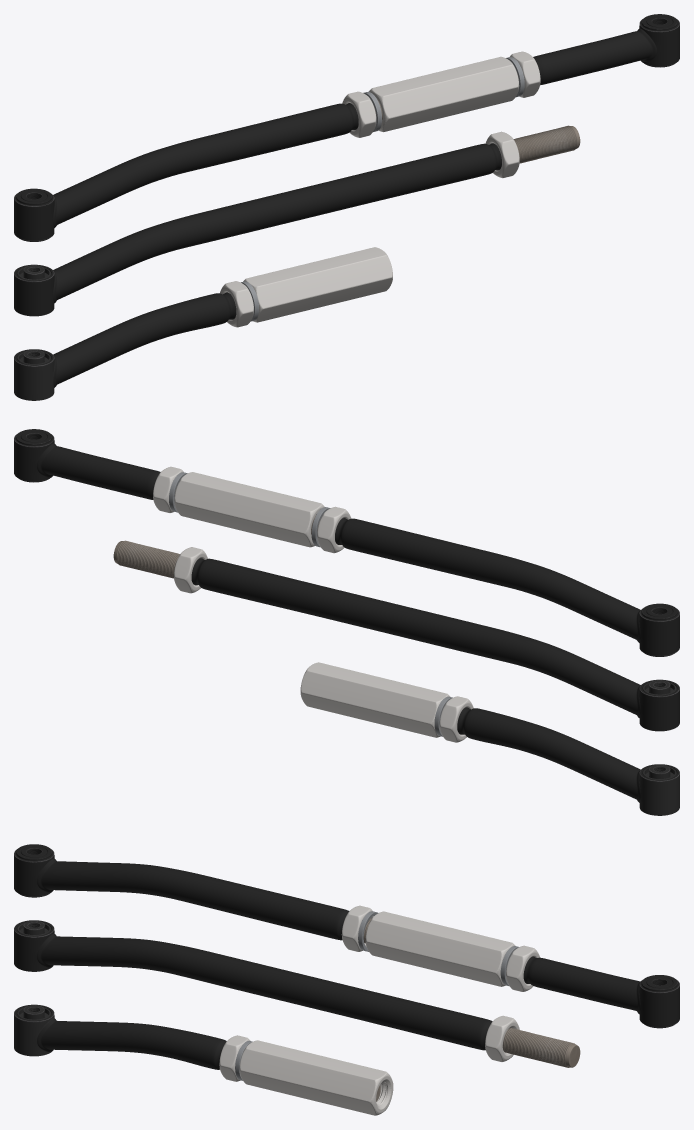
3 views of the same model, one above another, from view 1: azimuth 30°, elevation 25°; view 2: azimuth 150°, elevation 25°; view 3: azimuth 330°, elevation 25° (orthographic).
Parts seen in each view (by area): view 1: Rods2, Rods1, Rods3, LongNut2, LongNut1, Rods4, ThreadNut2, Bolts2, Bolts3, Bolts4, Bolts1; view 2: Rods2, Rods1, Rods3, LongNut2, LongNut1, Rods4, ThreadNut2, Bolts4, Bolts2, Bolts3, Bolts1; view 3: Rods2, Rods1, Rods3, LongNut1, LongNut2, Rods4, ThreadNut2, Bolts3, Bolts1, Bolts2, Bolts4.
Part boxes in pixels (x1=…): Rods2: x1=14, y1=143, x2=501, y2=316; Rods1: x1=14, y1=103, x2=358, y2=241; Rods3: x1=14, y1=292, x2=236, y2=400; LongNut2: x1=369, y1=56, x2=519, y2=132; LongNut1: x1=243, y1=247, x2=392, y2=322; Rods4: x1=533, y1=14, x2=679, y2=85; ThreadNut2: x1=513, y1=125, x2=580, y2=163; Bolts2: x1=342, y1=91, x2=376, y2=137; Bolts3: x1=485, y1=131, x2=519, y2=178; Bolts4: x1=220, y1=281, x2=253, y2=327; Bolts1: x1=510, y1=51, x2=540, y2=97; Rods2: x1=191, y1=558, x2=679, y2=731; Rods1: x1=335, y1=518, x2=679, y2=656; Rods3: x1=457, y1=707, x2=679, y2=815; LongNut2: x1=174, y1=472, x2=324, y2=547; LongNut1: x1=300, y1=662, x2=450, y2=737; Rods4: x1=14, y1=429, x2=160, y2=499; ThreadNut2: x1=113, y1=540, x2=179, y2=578; Bolts4: x1=439, y1=696, x2=473, y2=742; Bolts2: x1=317, y1=506, x2=351, y2=553; Bolts3: x1=174, y1=547, x2=207, y2=593; Bolts1: x1=153, y1=466, x2=183, y2=512; Rods2: x1=14, y1=920, x2=492, y2=1050; Rods1: x1=14, y1=844, x2=348, y2=940; Rods3: x1=14, y1=1004, x2=226, y2=1069; LongNut1: x1=239, y1=1040, x2=393, y2=1115; LongNut2: x1=365, y1=911, x2=515, y2=986; Rods4: x1=523, y1=956, x2=679, y2=1028; ThreadNut2: x1=502, y1=1028, x2=580, y2=1067; Bolts3: x1=485, y1=1015, x2=519, y2=1061; Bolts1: x1=506, y1=945, x2=539, y2=991; Bolts2: x1=341, y1=905, x2=373, y2=951; Bolts4: x1=219, y1=1035, x2=250, y2=1081.
Bounding box in the file's own units: 20.16 × 6.45 × 1.2.
1 material, 1 textured.
